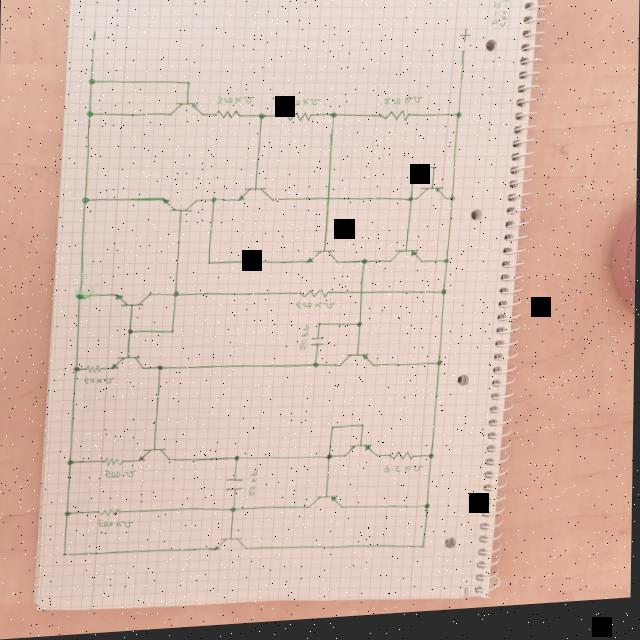capacitor: (225, 480, 247, 497), (310, 341, 326, 353)
crossover: (358, 294, 366, 303), (324, 199, 332, 208)
junction: (75, 292, 86, 303), (256, 115, 266, 125), (329, 116, 339, 126), (81, 197, 91, 207), (85, 111, 95, 121), (209, 199, 220, 208), (87, 79, 97, 88), (454, 117, 463, 127), (435, 365, 444, 375), (312, 365, 321, 374), (440, 294, 449, 303), (231, 509, 239, 518), (326, 457, 334, 466), (428, 458, 436, 467), (64, 511, 73, 519), (361, 262, 369, 271), (425, 508, 433, 517), (73, 367, 81, 376), (443, 263, 451, 272), (127, 330, 135, 338), (356, 326, 364, 334), (234, 458, 242, 466), (68, 460, 76, 468), (157, 367, 165, 375), (172, 293, 180, 301), (407, 202, 415, 210), (448, 201, 456, 209), (185, 82, 192, 90), (169, 331, 177, 338), (206, 263, 213, 270), (421, 550, 428, 557), (63, 552, 69, 559), (411, 171, 417, 178), (331, 429, 337, 435), (360, 429, 366, 435), (317, 326, 323, 332), (431, 171, 437, 177)
resistor: (378, 113, 412, 131), (284, 114, 314, 130), (299, 292, 332, 306), (389, 455, 417, 470), (214, 111, 242, 124), (103, 458, 128, 470), (98, 509, 125, 520), (86, 365, 105, 376)
terminal: (460, 55, 466, 62), (90, 48, 96, 55)
text: (382, 100, 425, 113), (216, 97, 254, 111), (294, 305, 337, 317), (383, 469, 425, 481), (98, 521, 136, 533), (287, 101, 322, 114), (105, 470, 139, 482), (83, 377, 116, 389), (248, 473, 260, 502), (300, 328, 310, 357), (458, 33, 471, 51), (90, 31, 98, 44)
transistor: (112, 291, 154, 313), (304, 496, 345, 518), (168, 102, 207, 124), (336, 354, 376, 375), (237, 188, 275, 210), (112, 352, 146, 376), (211, 537, 249, 558), (163, 197, 200, 218), (137, 446, 172, 468), (388, 253, 423, 273), (306, 253, 340, 272), (343, 447, 378, 465), (414, 191, 447, 209)
